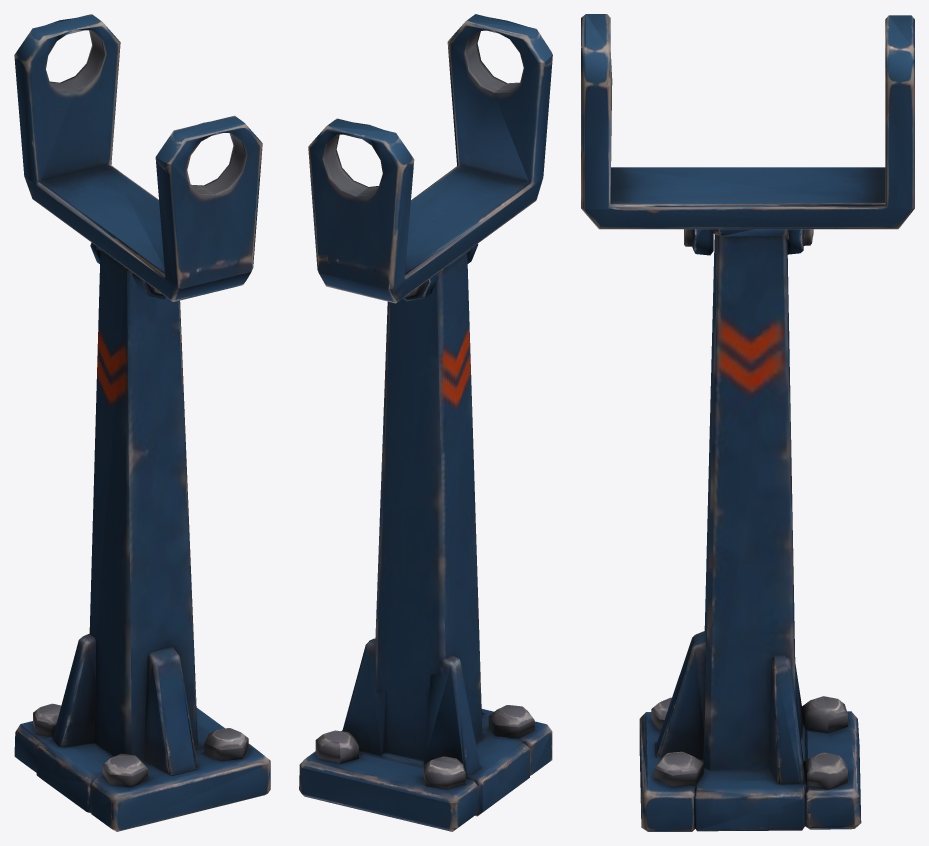
The model's file is jeep-minigun-mount-repaired-source.glb.
3 renders of one model, left to right at view 1: azimuth 30°, elevation 25°; view 2: azimuth 150°, elevation 25°; view 3: azimuth 270°, elevation 25°, orthographic. The views are drawn at different scales.
Parts seen in each view (by area): view 1: tripo_node_fd6b2548-183b-4b75-aff8-e5ab3d7cda9b; view 2: tripo_node_fd6b2548-183b-4b75-aff8-e5ab3d7cda9b; view 3: tripo_node_fd6b2548-183b-4b75-aff8-e5ab3d7cda9b.
Boxes of the visible parts, x1,y1,x2,y2 form: tripo_node_fd6b2548-183b-4b75-aff8-e5ab3d7cda9b: (14,14,270,831); tripo_node_fd6b2548-183b-4b75-aff8-e5ab3d7cda9b: (299,14,552,831); tripo_node_fd6b2548-183b-4b75-aff8-e5ab3d7cda9b: (581,14,914,831).
Bounding box in the file's own units: 0.2402 × 0.998 × 0.3974.
1 material, 1 textured.
